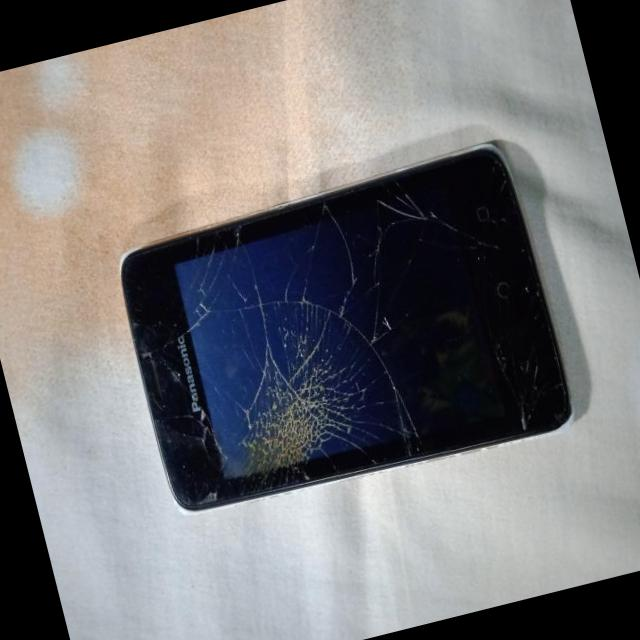screen crack: (122, 221, 428, 535), (367, 162, 462, 274), (497, 392, 546, 439)
